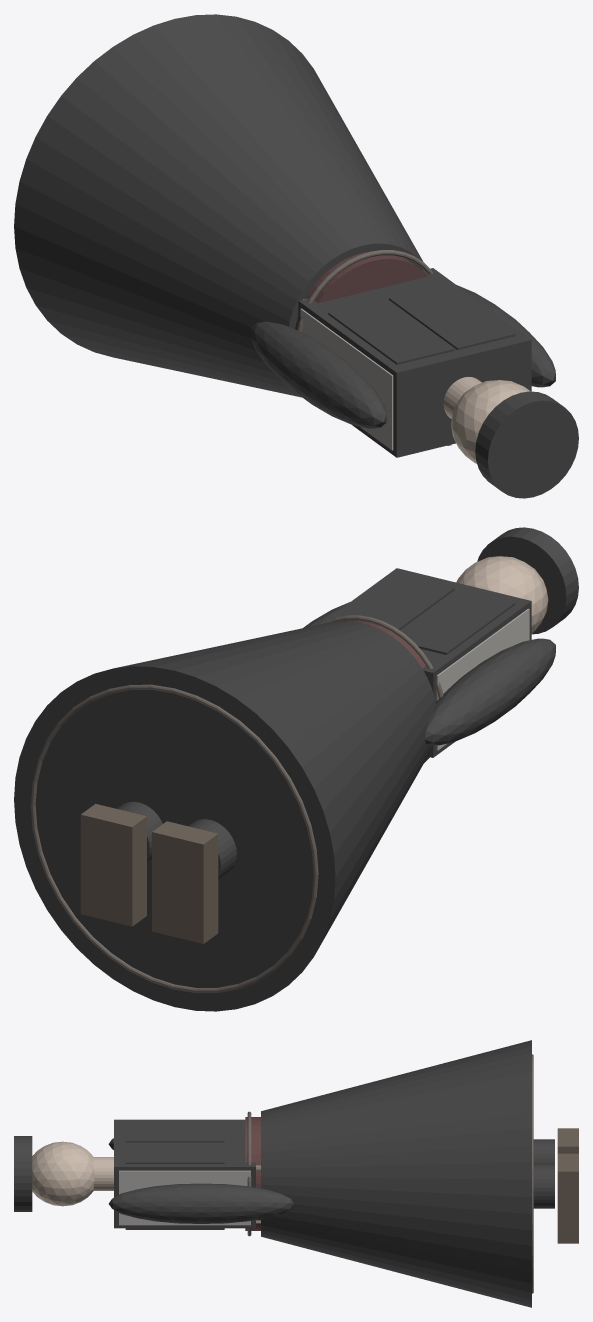
File: MASTER_050_STAGE3_DETAIL.glb
3 views of the same model, one above another, from view 1: azimuth 30°, elevation 25°; view 2: azimuth 150°, elevation 25°; view 3: azimuth 270°, elevation 25° (orthographic). The views are drawn at different scales.
Visible parts, largest first — view 1: slot_lower_main__fund_i_gjatë, slot_upper_inner__këmishë, slot_headwear__mbulesë_koke, slot_upper_inner_sleeve_L, slot_upper_outer__jelek/xhamadan_L, slot_upper_outer__jelek/xhamadan_R, slot_waist__brez, mannequin_torso, mannequin_head, slot_upper_inner_sleeve_R, detail_belt_edge_2, mannequin_neck; view 2: slot_lower_main__fund_i_gjatë, slot_footwear__opinga_L, slot_footwear__opinga_R, slot_upper_inner_sleeve_L, detail_skirt_hem, slot_headwear__mbulesë_koke, slot_upper_outer__jelek/xhamadan_L, slot_upper_inner__këmishë, slot_upper_outer__jelek/xhamadan_R, mannequin_head, mannequin_torso, slot_legwear__çorape_L (+2 smaller); view 3: slot_lower_main__fund_i_gjatë, slot_upper_inner_sleeve_R, slot_upper_inner__këmishë, mannequin_head, mannequin_torso, slot_upper_outer__jelek/xhamadan_R, slot_upper_outer__jelek/xhamadan_L, slot_footwear__opinga_R, slot_headwear__mbulesë_koke, slot_legwear__çorape_R, slot_waist__brez, mannequin_neck (+4 smaller).
Part boxes in pixels (box(x1,y1,x2,y2)): slot_lower_main__fund_i_gjatë: box(14, 14, 423, 397); slot_upper_inner__këmishë: box(298, 268, 531, 457); slot_headwear__mbulesë_koke: box(475, 391, 578, 498); slot_upper_inner_sleeve_L: box(251, 321, 386, 428); slot_upper_outer__jelek/xhamadan_L: box(328, 298, 454, 364); slot_upper_outer__jelek/xhamadan_R: box(389, 284, 515, 350); slot_waist__brez: box(295, 251, 427, 329); mannequin_torso: box(300, 308, 393, 450); mannequin_head: box(451, 380, 530, 463); slot_upper_inner_sleeve_R: box(457, 285, 555, 387); detail_belt_edge_2: box(297, 250, 432, 332); mannequin_neck: box(443, 377, 481, 418); slot_lower_main__fund_i_gjatë: box(14, 620, 435, 1011); slot_footwear__opinga_L: box(152, 821, 218, 943); slot_footwear__opinga_R: box(80, 803, 146, 926); slot_upper_inner_sleeve_L: box(425, 638, 555, 745); detail_skirt_hem: box(30, 684, 318, 993); slot_headwear__mbulesë_koke: box(477, 527, 578, 634); slot_upper_outer__jelek/xhamadan_L: box(400, 588, 515, 654); slot_upper_inner__këmishë: box(320, 568, 531, 757); slot_upper_outer__jelek/xhamadan_R: box(338, 574, 454, 630); mannequin_head: box(456, 556, 548, 633); mannequin_torso: box(436, 608, 529, 750); slot_legwear__çorape_L: box(188, 819, 236, 879); slot_lower_main__fund_i_gjatë: box(261, 1040, 531, 1307); slot_upper_inner_sleeve_R: box(108, 1183, 293, 1223); slot_upper_inner__këmishë: box(114, 1119, 255, 1228); mannequin_head: box(32, 1141, 94, 1206); mannequin_torso: box(119, 1170, 250, 1225); slot_upper_outer__jelek/xhamadan_R: box(125, 1142, 224, 1229); slot_upper_outer__jelek/xhamadan_L: box(125, 1121, 224, 1142); slot_footwear__opinga_R: box(557, 1153, 578, 1243); slot_headwear__mbulesë_koke: box(14, 1136, 32, 1211); slot_legwear__çorape_R: box(533, 1164, 554, 1208); slot_waist__brez: box(245, 1117, 260, 1230); mannequin_neck: box(93, 1157, 113, 1190).
Size of the model in its own units: 0.8112 by 0.8112 by 1.71.
